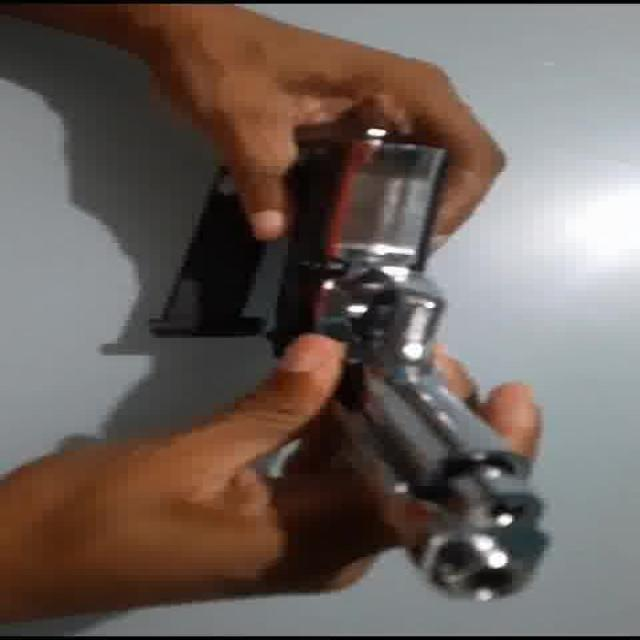weapon: (145, 104, 546, 603)
